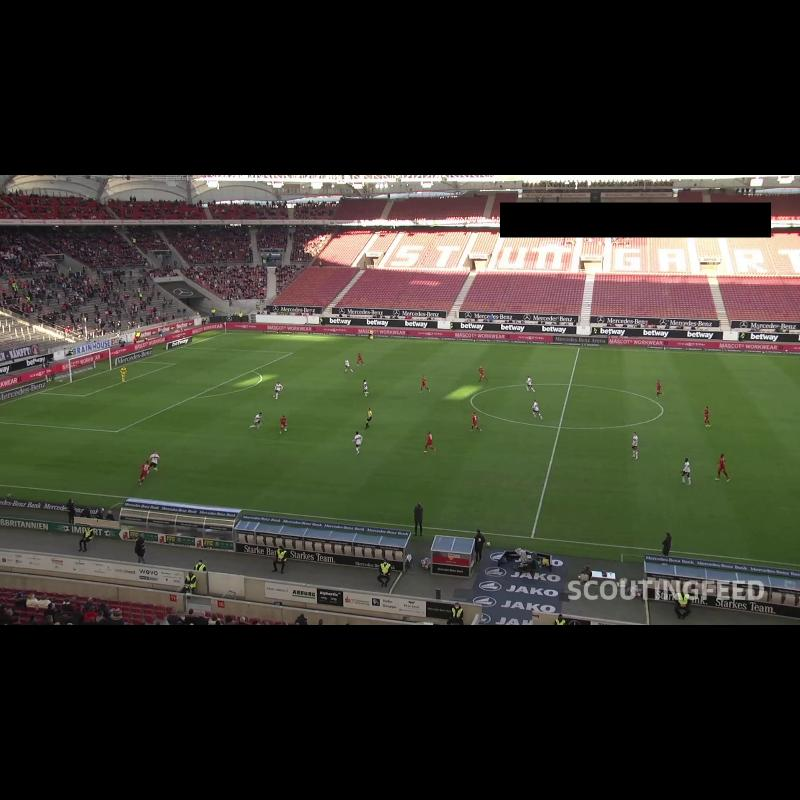cross_recipient_zone: (0, 347, 293, 432)
crossing_player_zone: (0, 423, 212, 497), (183, 333, 387, 356)
pitch: (0, 333, 800, 566)
